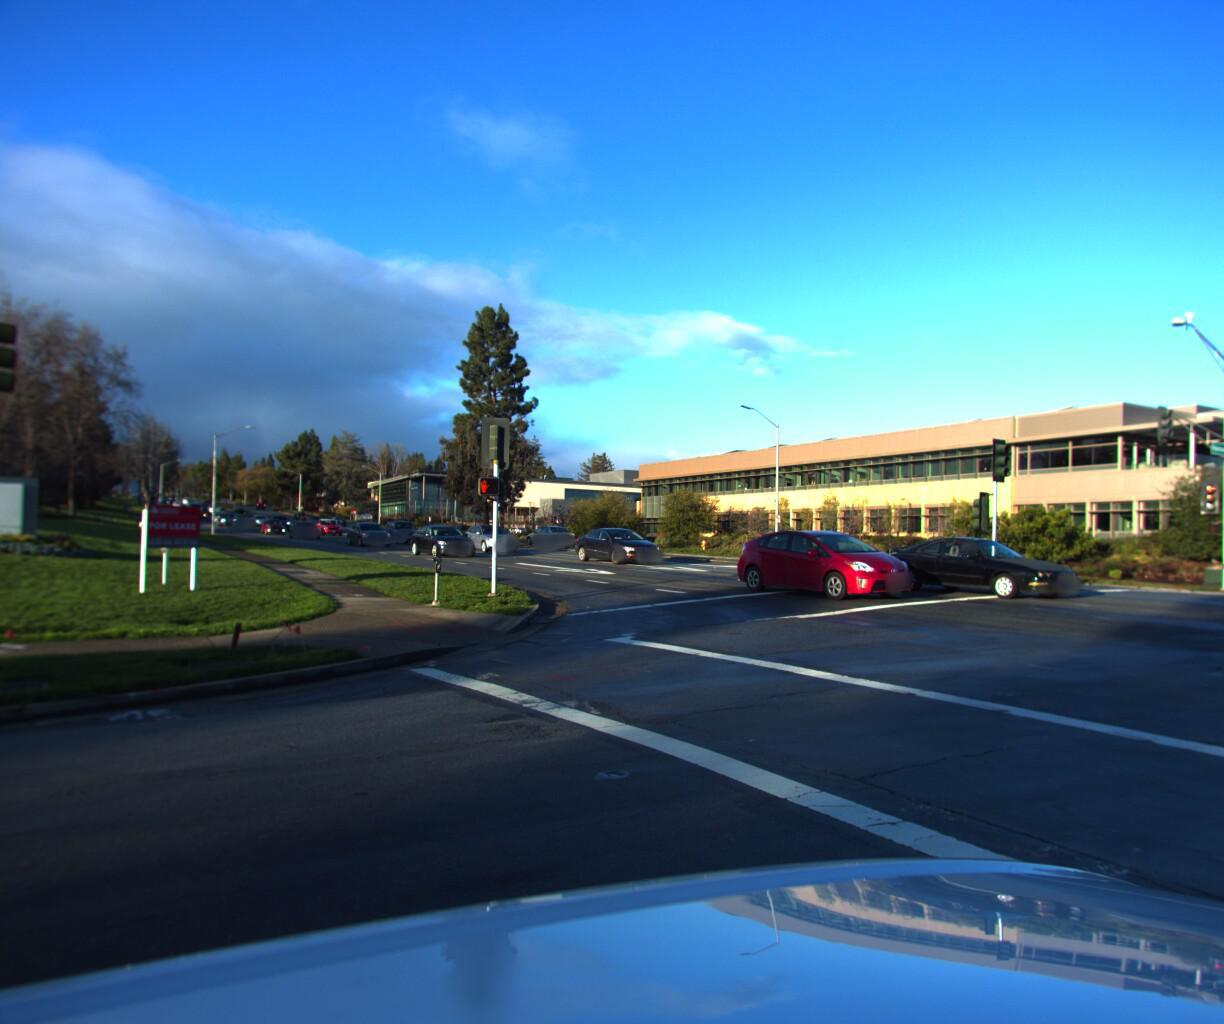car: (731, 525, 929, 602), (880, 530, 1094, 601), (569, 525, 665, 564), (407, 521, 479, 555), (461, 521, 521, 550), (347, 519, 400, 546), (522, 523, 579, 547), (379, 517, 425, 542), (291, 518, 326, 537), (319, 516, 349, 535)
